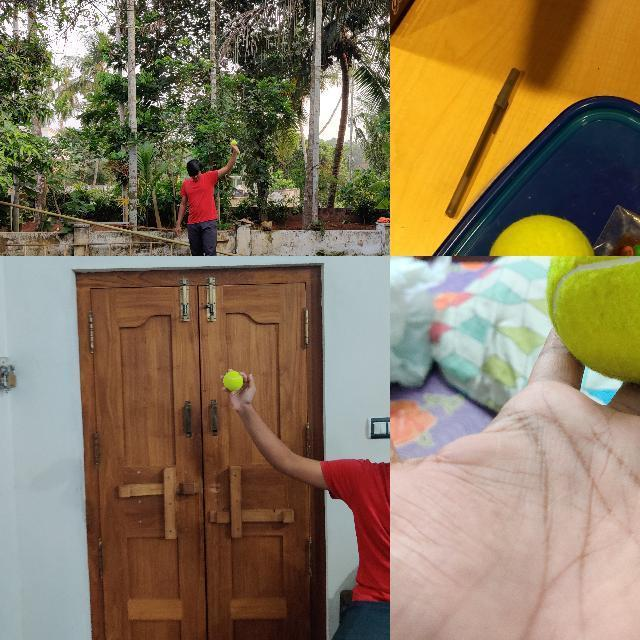tennis-ball: (544, 256, 639, 385), (486, 213, 598, 255), (222, 370, 243, 390), (232, 140, 237, 145)
